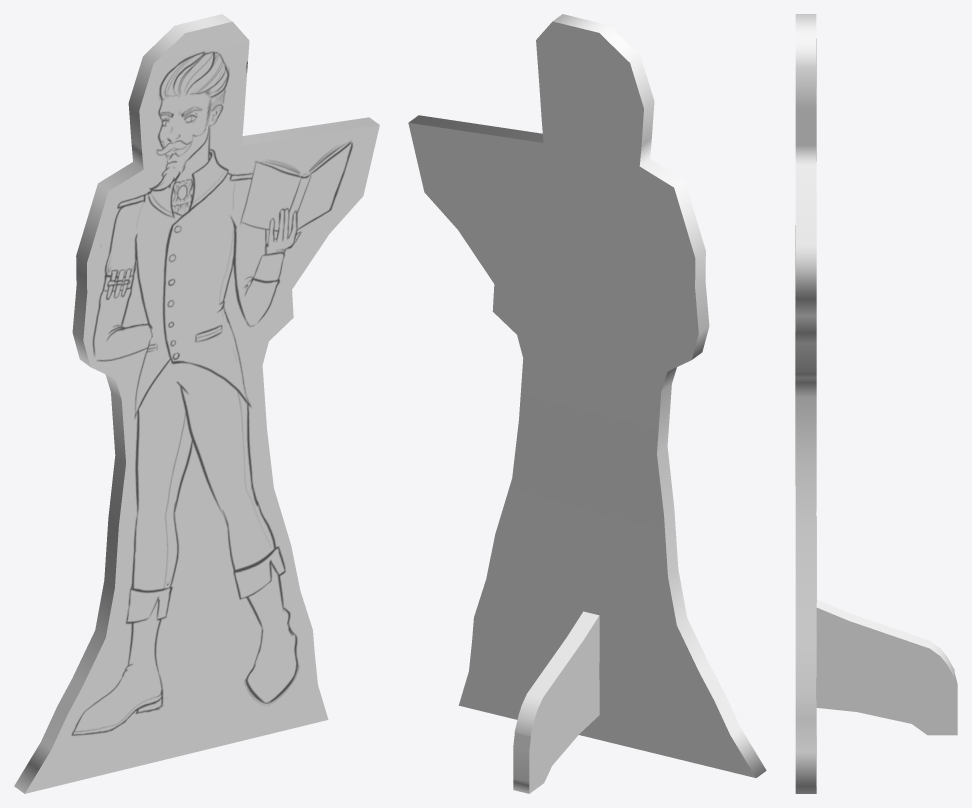
Rendered from WizardMockUp.fbx.
The picture shows the model from 3 angles, left to right: view 1: azimuth 30°, elevation 25°; view 2: azimuth 150°, elevation 25°; view 3: azimuth 270°, elevation 25°; orthographic projection. The views are drawn at different scales.
Visible parts, largest first — view 1: Cube; view 2: Cube; view 3: Cube.
Part boxes in pixels (bbox=[...]): Cube: bbox=[14, 14, 379, 793]; Cube: bbox=[408, 14, 766, 793]; Cube: bbox=[795, 14, 957, 793].
Bounding box in the file's own units: 408 × 796 × 164.
